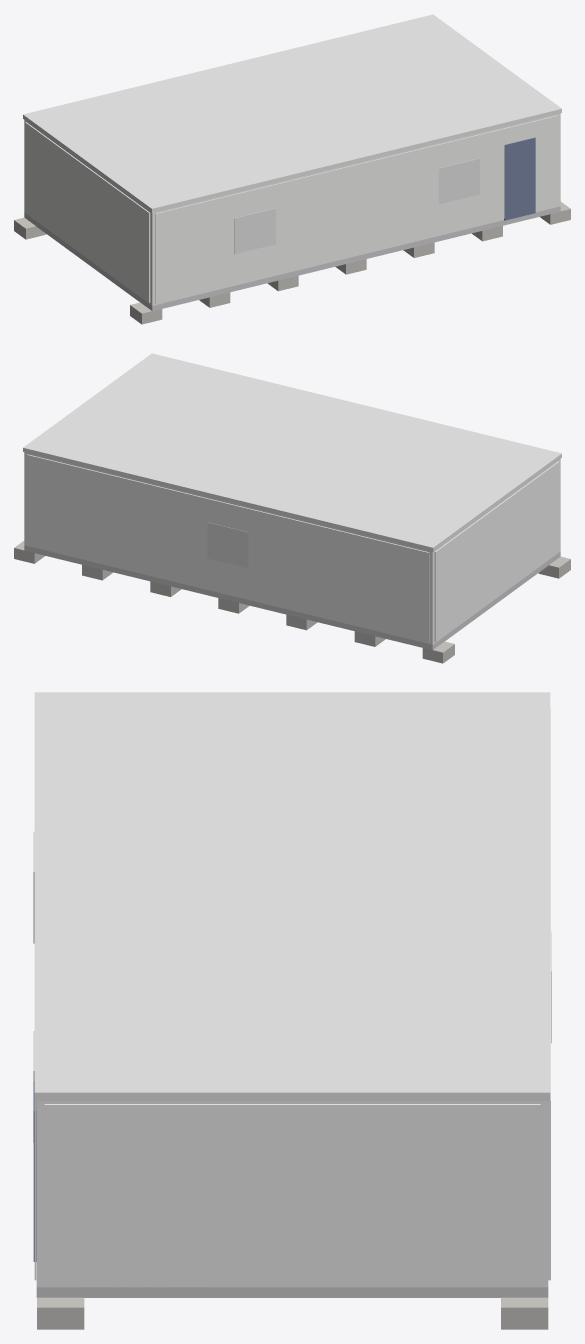
Rendered from Studio-40-Base-AngelWhite-LOD3.glb.
3 views of the same model, one above another, from view 1: azimuth 30°, elevation 25°; view 2: azimuth 150°, elevation 25°; view 3: azimuth 270°, elevation 25° (orthographic). The views are drawn at different scales.
Visible parts, largest first — view 1: RoofMain, ExteriorPanelsStandard, BaseFrame, WindowsStandard, ExteriorShell, FoundationBlocks, EntryDoor; view 2: RoofMain, ExteriorPanelsStandard, BaseFrame, ExteriorShell, FoundationBlocks, WindowsStandard; view 3: RoofMain, ExteriorPanelsStandard, ExteriorShell, BaseFrame, FoundationBlocks.
Boxes of the visible parts, x1,y1,x2,y2 form: RoofMain: (23,14,561,212); ExteriorPanelsStandard: (25,115,557,303); BaseFrame: (24,206,560,311); WindowsStandard: (234,158,479,254); ExteriorShell: (24,113,560,305); FoundationBlocks: (14,201,570,324); EntryDoor: (504,137,535,220); RoofMain: (23,353,561,551); ExteriorPanelsStandard: (27,454,559,642); BaseFrame: (24,545,560,650); ExteriorShell: (24,452,560,644); FoundationBlocks: (14,541,570,663); WindowsStandard: (207,522,248,567); RoofMain: (34,692,550,1100); ExteriorPanelsStandard: (34,708,550,1284); ExteriorShell: (36,1101,548,1287); BaseFrame: (36,1287,548,1297); FoundationBlocks: (37,1297,548,1329).
Bounding box in the file's own units: 12.49 × 3.17 × 6.53.
